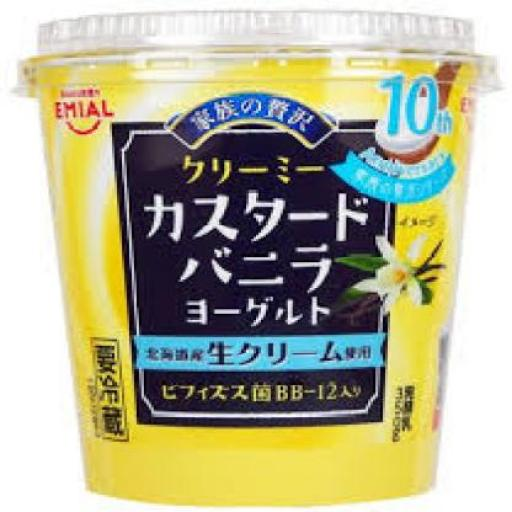plastic: (8, 10, 498, 502), (10, 8, 497, 98)
